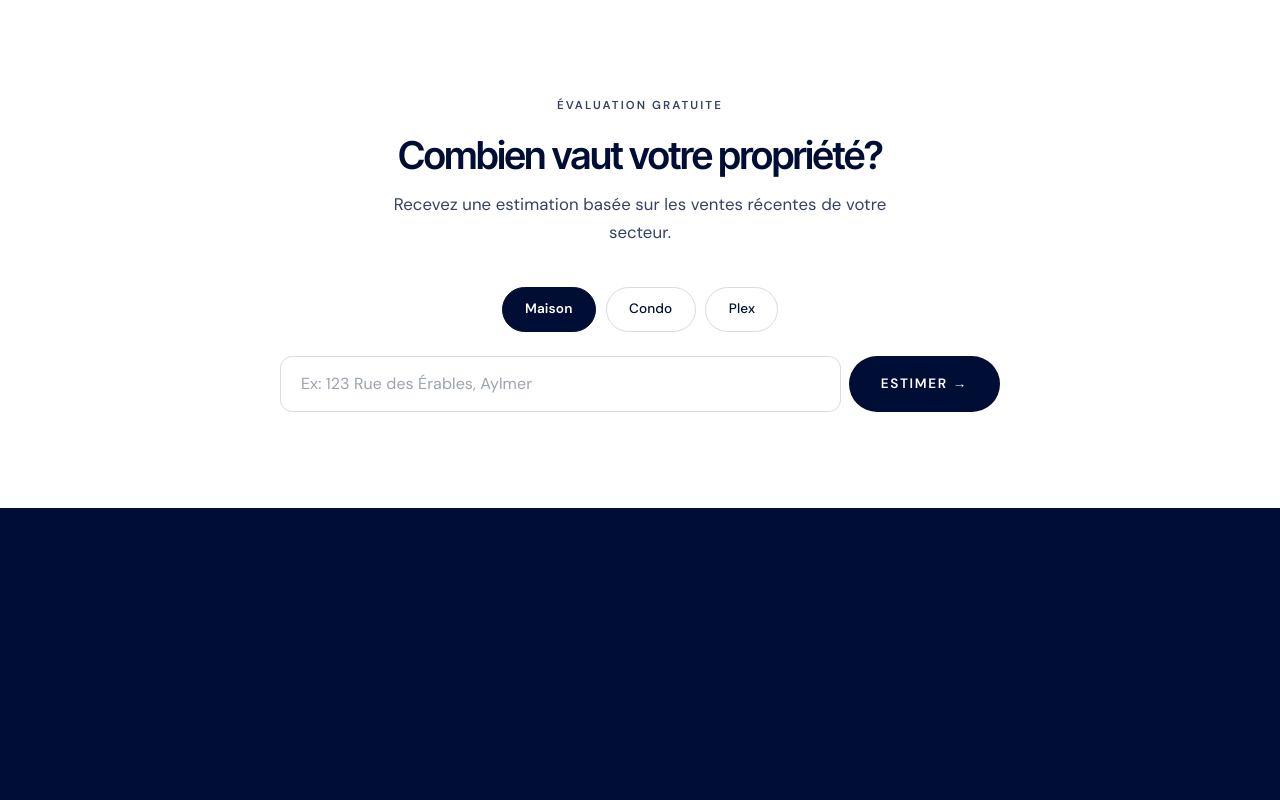
it: ValuationWidget submission outcomes (simulated responses only) › notification technical error: shows saved-only, never invites a second request
In the field with placeholder "Ex: 123 Rue des Érables, Aylmer": (560, 384) [280, 356, 841, 412], type "100 Rue Principale, Aylmer"
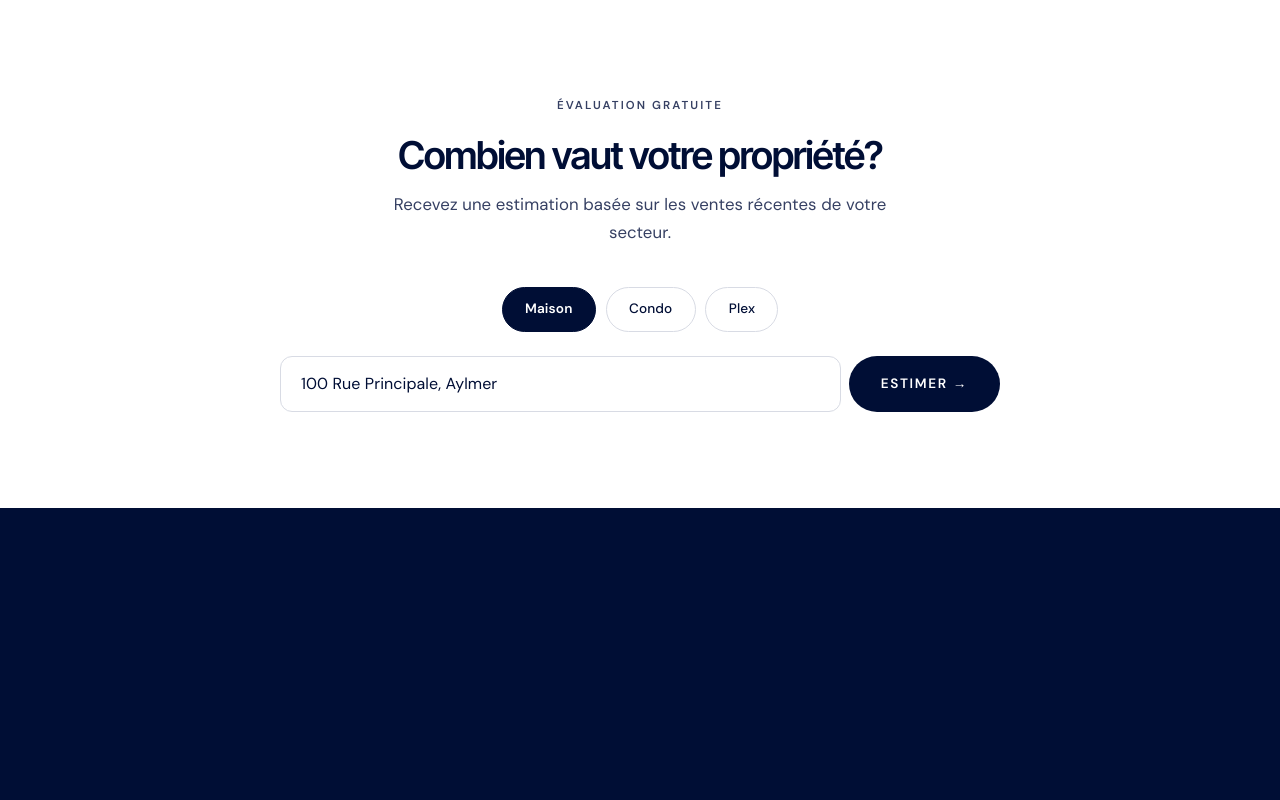
Click the button "ESTIMER →": (924, 384) [849, 356, 1000, 412]
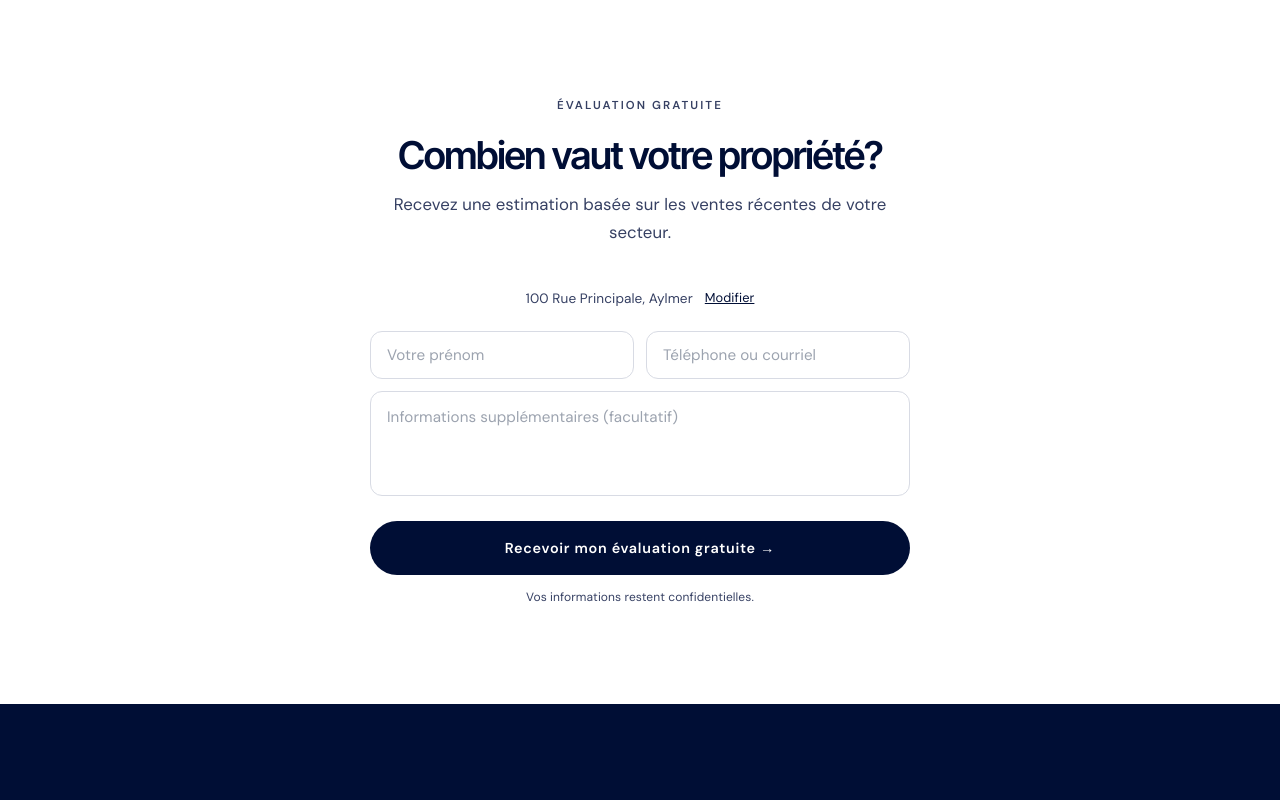
Check: the field with placeholder "Votre prénom" is shown
In the field with placeholder "Votre prénom": (502, 354) [370, 330, 634, 378], type "Alex"
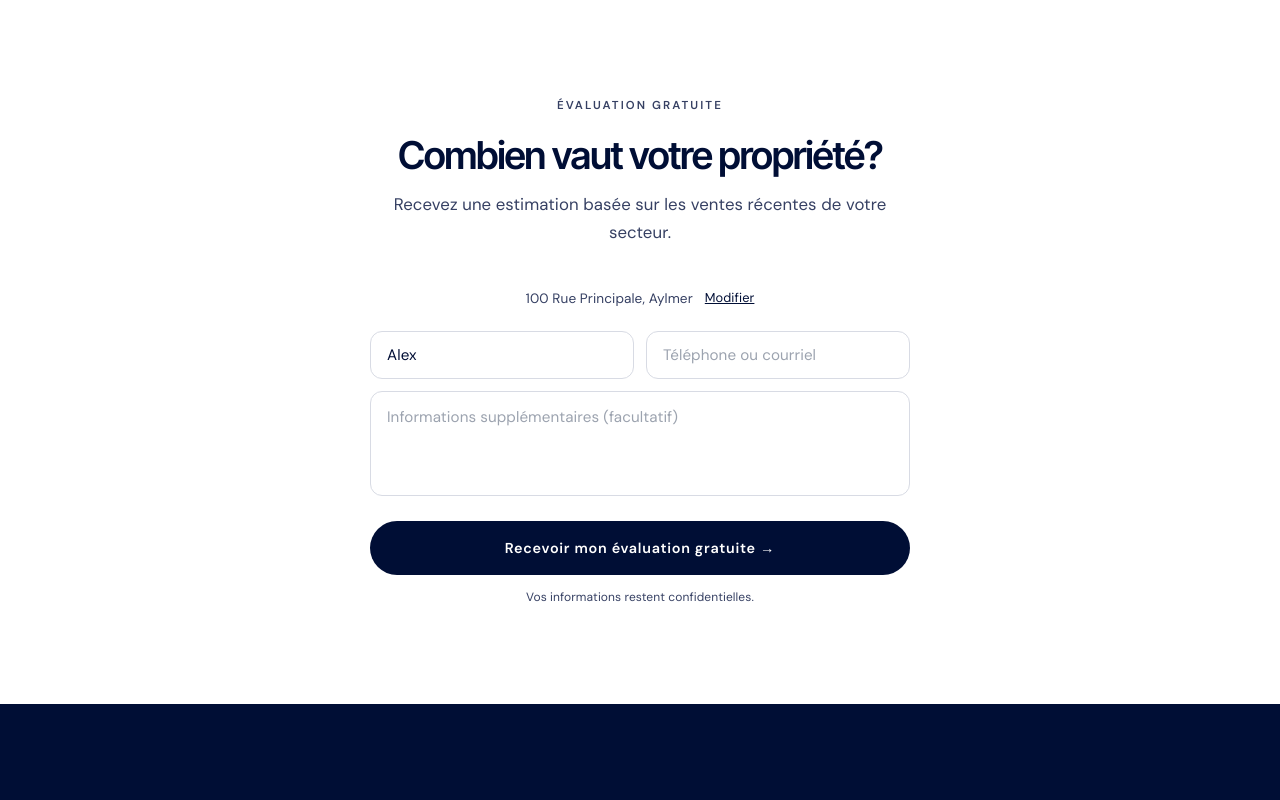
In the field with placeholder "Téléphone ou courriel": (778, 354) [646, 330, 910, 378], type "alex@example.com"
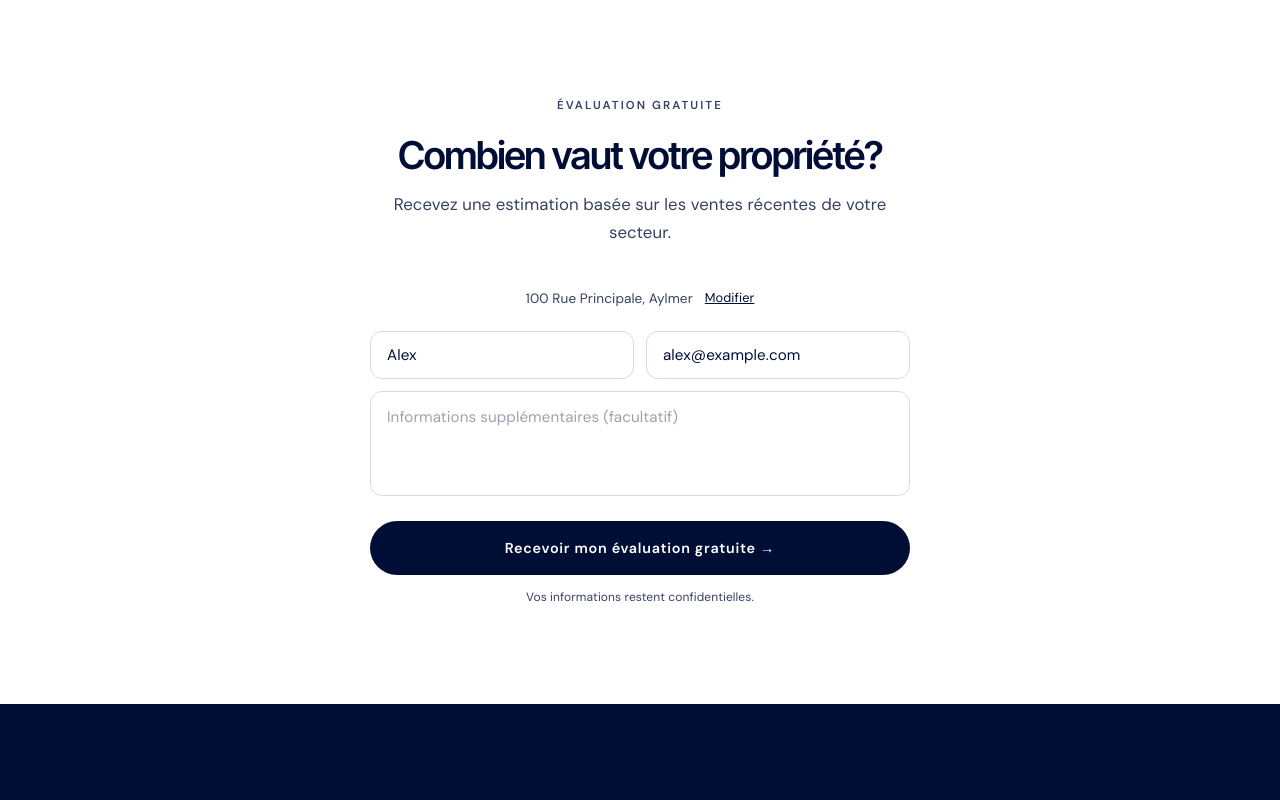
Click the button "Recevoir mon évaluation gratuite →": (640, 548) [370, 521, 910, 575]
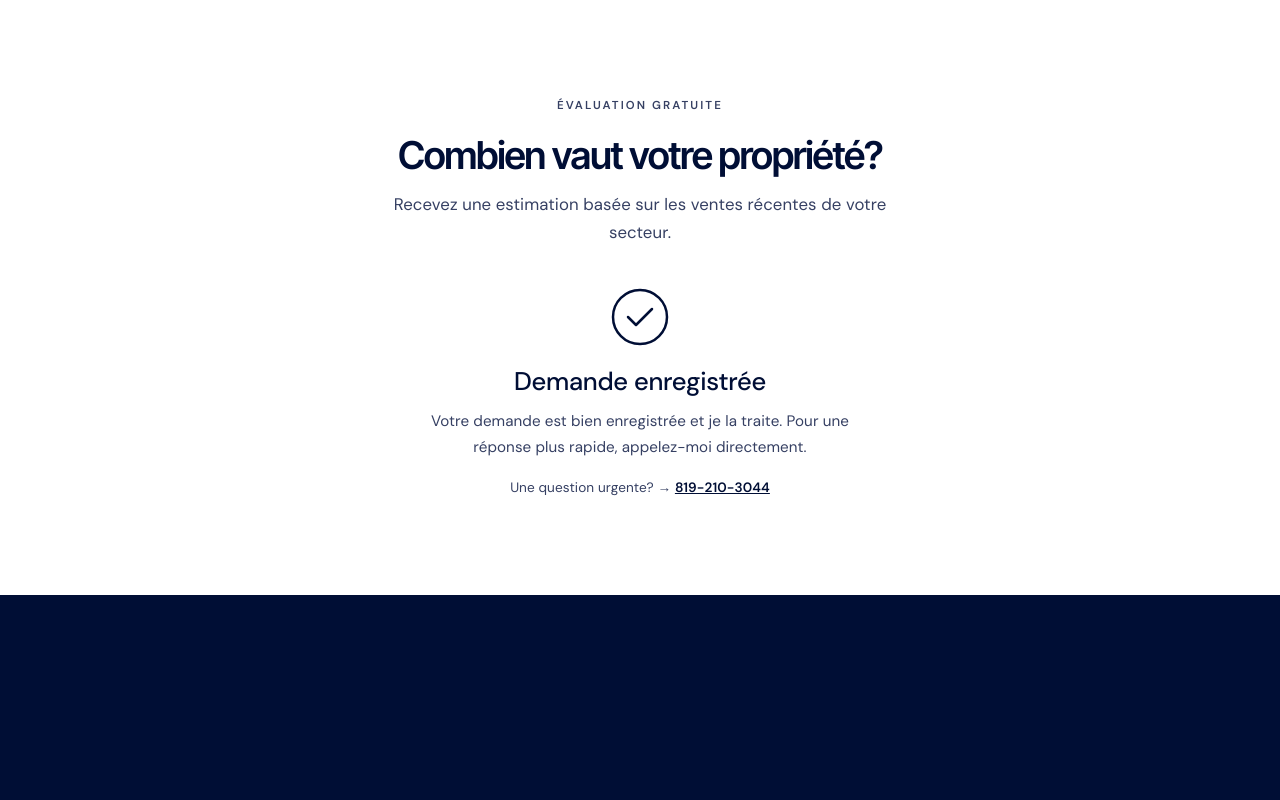
Check: the heading "Demande enregistrée" is shown, box [514, 365, 766, 398]
Check: the text "bien enregistrée" is shown, box [431, 411, 849, 456]
Check: the button "Recevoir mon évaluation" is gone
